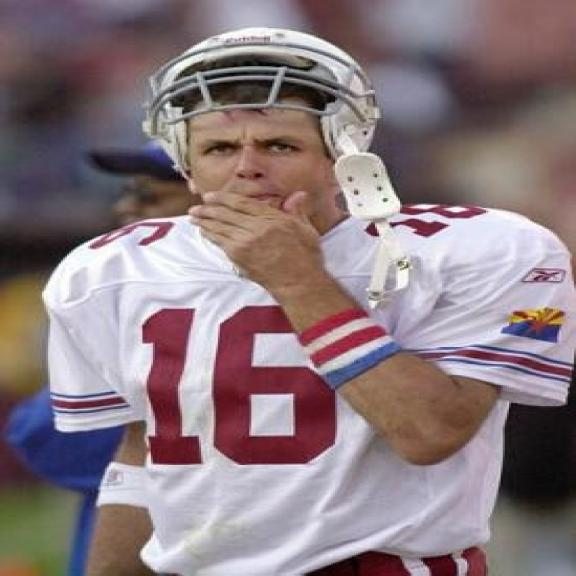face: (182, 109, 342, 229)
